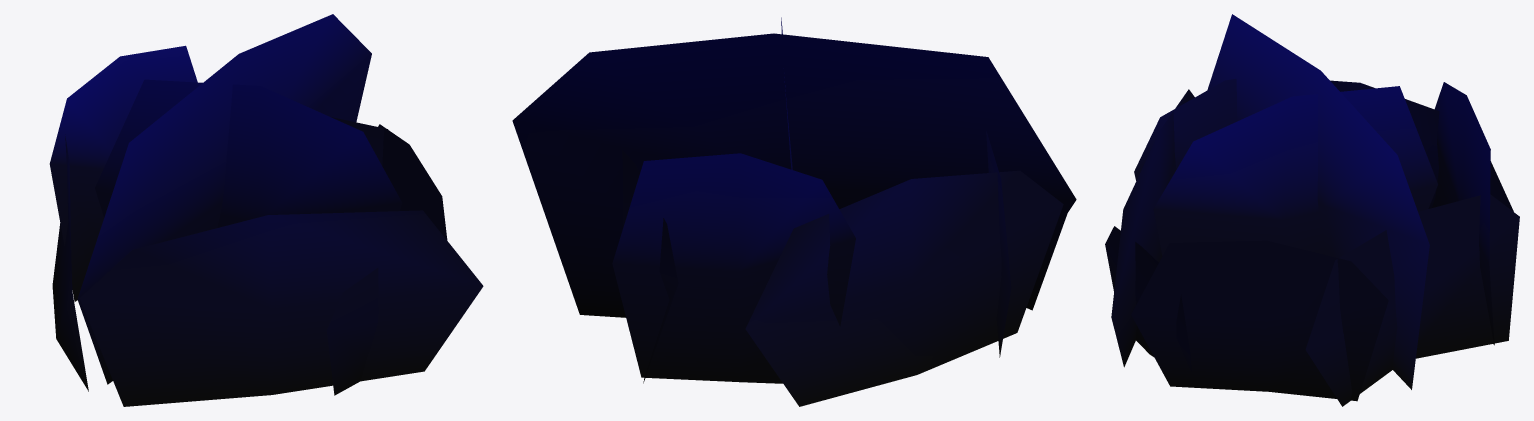
Rendered from SM_Grass_S_Patch_S_05.fbx.
3 renders of one model, left to right at view 1: azimuth 30°, elevation 25°; view 2: azimuth 150°, elevation 25°; view 3: azimuth 270°, elevation 25°, orthographic. The views are drawn at different scales.
Parts seen in each view (by area): view 1: SM_Grass_S_Patch_S_05; view 2: SM_Grass_S_Patch_S_05; view 3: SM_Grass_S_Patch_S_05.
Boxes of the visible parts, <box> form: SM_Grass_S_Patch_S_05: <box>49,14,483,406</box>; SM_Grass_S_Patch_S_05: <box>512,17,1076,406</box>; SM_Grass_S_Patch_S_05: <box>1105,14,1519,406</box>.
Size of the model in its own units: 64.43 by 57.65 by 39.65.
